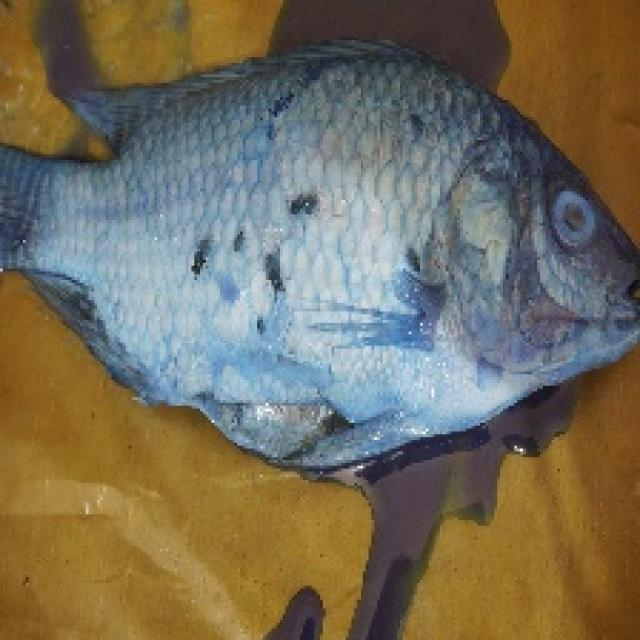Non-Fresh: (154, 71, 538, 412), (538, 174, 601, 256)
